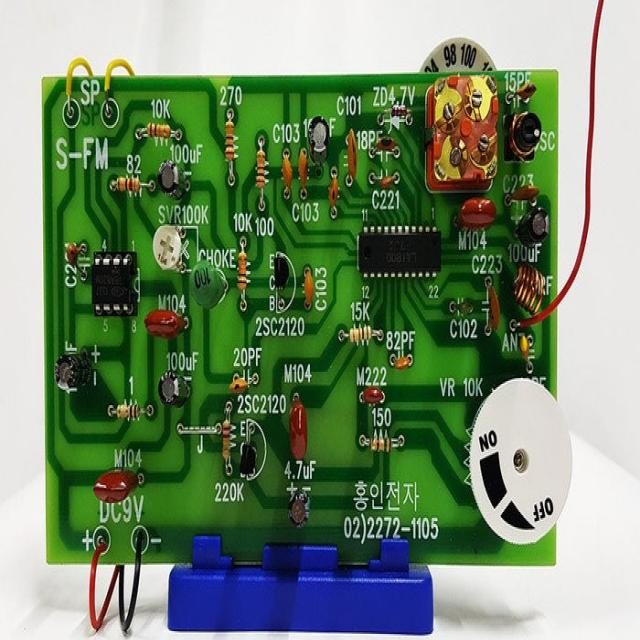Electrolytic capacitor: (521, 194, 550, 260), (55, 352, 96, 398), (157, 153, 193, 202), (157, 368, 196, 412), (308, 116, 332, 173), (287, 488, 314, 534)
IC: (355, 222, 443, 287), (93, 246, 134, 321)
ceramic capacitor: (508, 175, 543, 208), (229, 366, 260, 397), (484, 278, 500, 338), (347, 121, 359, 196), (370, 165, 402, 192), (281, 144, 294, 208), (303, 257, 317, 315), (510, 79, 538, 108), (330, 160, 343, 222), (390, 348, 415, 380), (298, 146, 310, 207)
resistor: (224, 116, 238, 175), (220, 411, 232, 475), (362, 433, 398, 454), (146, 116, 172, 144), (236, 252, 251, 300), (112, 173, 142, 195), (348, 323, 378, 345), (114, 402, 142, 424), (255, 148, 267, 197)
transistor: (272, 250, 292, 310), (240, 430, 262, 483)
